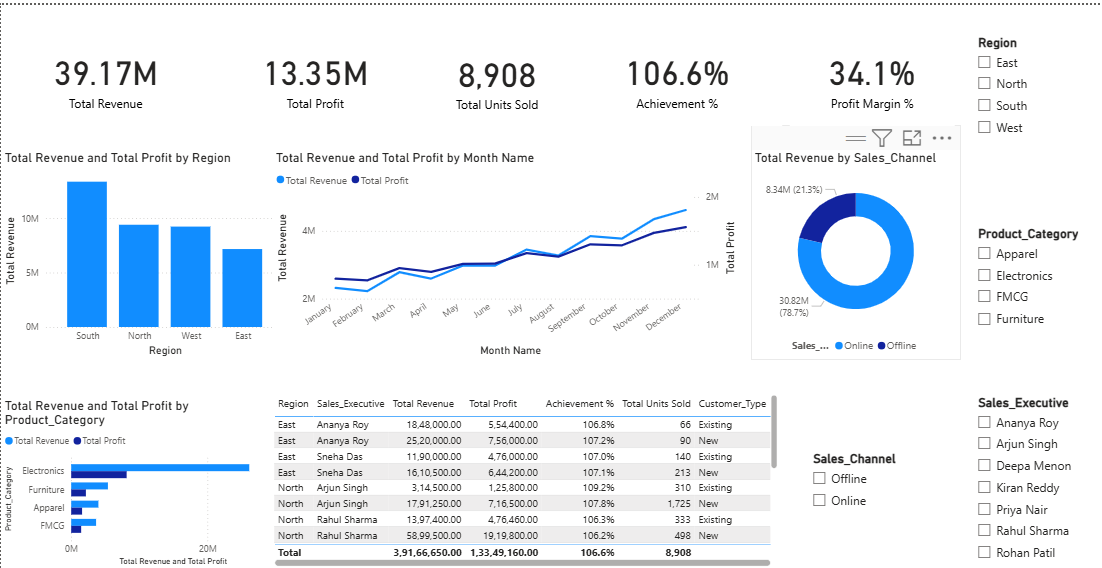

This screenshot's page, from the dashboard's own definition file:
{"tool":"powerbi","page":{"name":"Executive Summary","canvas":[1500,720],"ordinal":0},"visuals":[{"type":"clusteredColumnChart","fields":{"Category":["fact_sales.Region"],"Y":["fact_sales.Total Revenue"]},"box":[0,160,383.3,280],"z":0},{"type":"lineChart","fields":{"Category":["dim_date.Month Name"],"Y":["fact_sales.Total Revenue"],"Y2":["fact_sales.Total Profit"]},"box":[361.7,160,623.3,280],"z":1000},{"type":"donutChart","fields":{"Y":["fact_sales.Total Revenue"],"Category":["fact_sales.Sales_Channel"]},"box":[1000,160,280,280],"z":2000},{"type":"clusteredBarChart","fields":{"Category":["fact_sales.Product_Category"],"Y":["fact_sales.Total Revenue","fact_sales.Total Profit"]},"box":[0,490,383.3,230],"z":3000},{"type":"tableEx","fields":{"Values":["fact_sales.Region","fact_sales.Sales_Executive","fact_sales.Total Revenue","fact_sales.Total Profit","fact_sales.Achievement %","fact_sales.Total Units Sold","fact_sales.Customer_Type"]},"box":[358.3,481.7,681.7,238.3],"z":4000},{"type":"card","fields":{"Values":["fact_sales.Total Revenue"]},"box":[0,0,280,128.3],"z":5000},{"type":"card","fields":{"Values":["fact_sales.Total Profit"]},"box":[280,0,278.3,128.3],"z":6000},{"type":"card","fields":{"Values":["fact_sales.Total Units Sold"]},"box":[521.7,1.7,280,128.3],"z":7000},{"type":"card","fields":{"Values":["fact_sales.Achievement %"]},"box":[761.7,0,280,128.3],"z":8000},{"type":"card","fields":{"Values":["fact_sales.Profit Margin %"]},"box":[1051.7,0,220,128.3],"z":9000},{"type":"slicer","fields":{"Values":["fact_sales.Region"]},"box":[1290,1.7,210,141.7],"z":10000},{"type":"slicer","fields":{"Values":["fact_sales.Product_Category"]},"box":[1290,256.7,210,151.7],"z":11000},{"type":"slicer","fields":{"Values":["fact_sales.Sales_Channel"]},"box":[1070,556.7,210,96.7],"z":12000},{"type":"slicer","fields":{"Values":["fact_sales.Sales_Executive"]},"box":[1290,481.7,210,238.3],"z":13000}]}

Visuals, with their boxes on the page's 1500x720 design canvas (x1, y1, x2, y2). These are canvas units, not pixel positions in the 1102x568 screenshot, which may show the page scaled, cropped or inside an application window:
clusteredColumnChart - fact_sales.Region x fact_sales.Total Revenue: (0, 160, 383, 440)
lineChart - dim_date.Month Name x fact_sales.Total Revenue: (362, 160, 985, 440)
donutChart - fact_sales.Total Revenue x fact_sales.Sales_Channel: (1000, 160, 1280, 440)
clusteredBarChart - fact_sales.Product_Category x fact_sales.Total Revenue: (0, 490, 383, 720)
tableEx - fact_sales.Region x fact_sales.Sales_Executive: (358, 482, 1040, 720)
card - fact_sales.Total Revenue: (0, 0, 280, 128)
card - fact_sales.Total Profit: (280, 0, 558, 128)
card - fact_sales.Total Units Sold: (522, 2, 802, 130)
card - fact_sales.Achievement %: (762, 0, 1042, 128)
card - fact_sales.Profit Margin %: (1052, 0, 1272, 128)
slicer - fact_sales.Region: (1290, 2, 1500, 143)
slicer - fact_sales.Product_Category: (1290, 257, 1500, 408)
slicer - fact_sales.Sales_Channel: (1070, 557, 1280, 653)
slicer - fact_sales.Sales_Executive: (1290, 482, 1500, 720)
